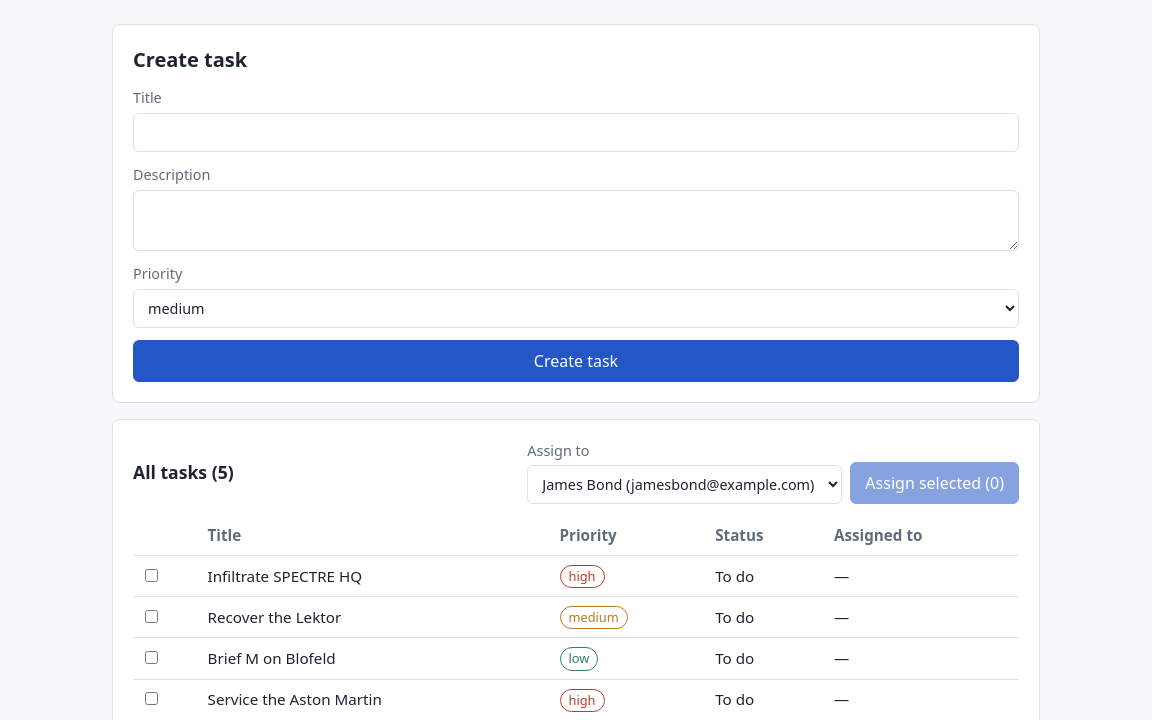
Scenario: AdminPage › assigns exactly the selected tasks to the chosen staff member
Click the checkbox named "Select Infiltrate SPECTRE HQ" at (152, 575), box [145,569,158,582]
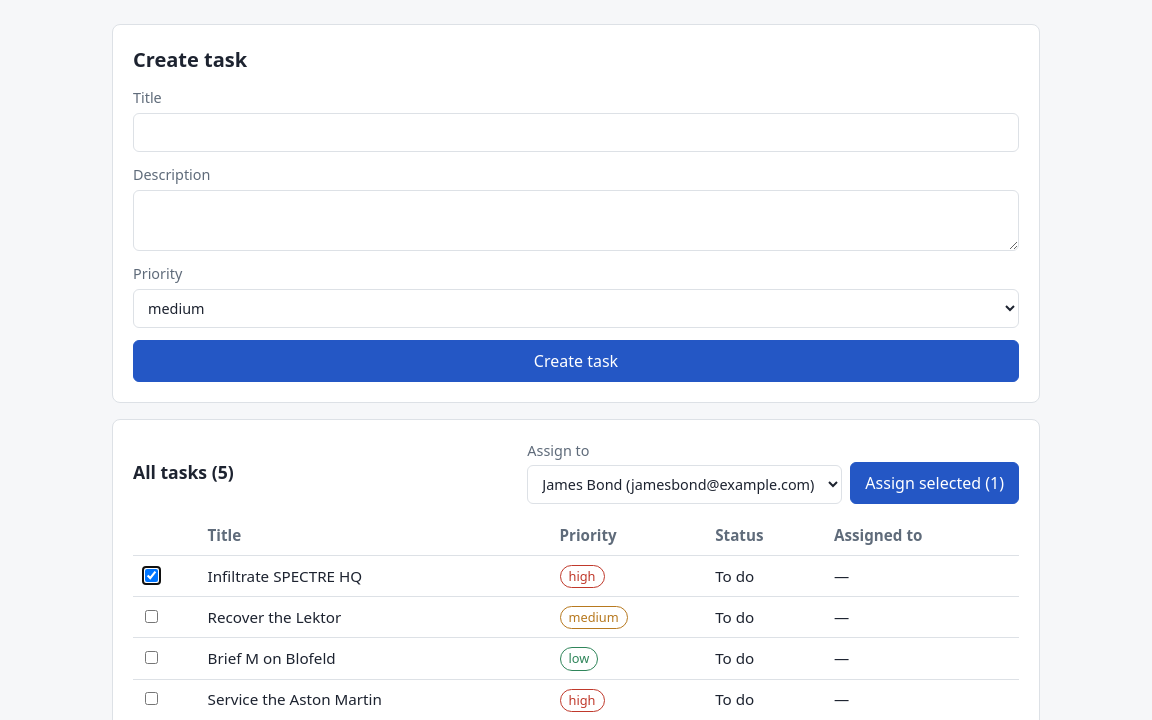
Click the checkbox named "Select Recover the Lektor" at (152, 616), box [145,610,158,623]
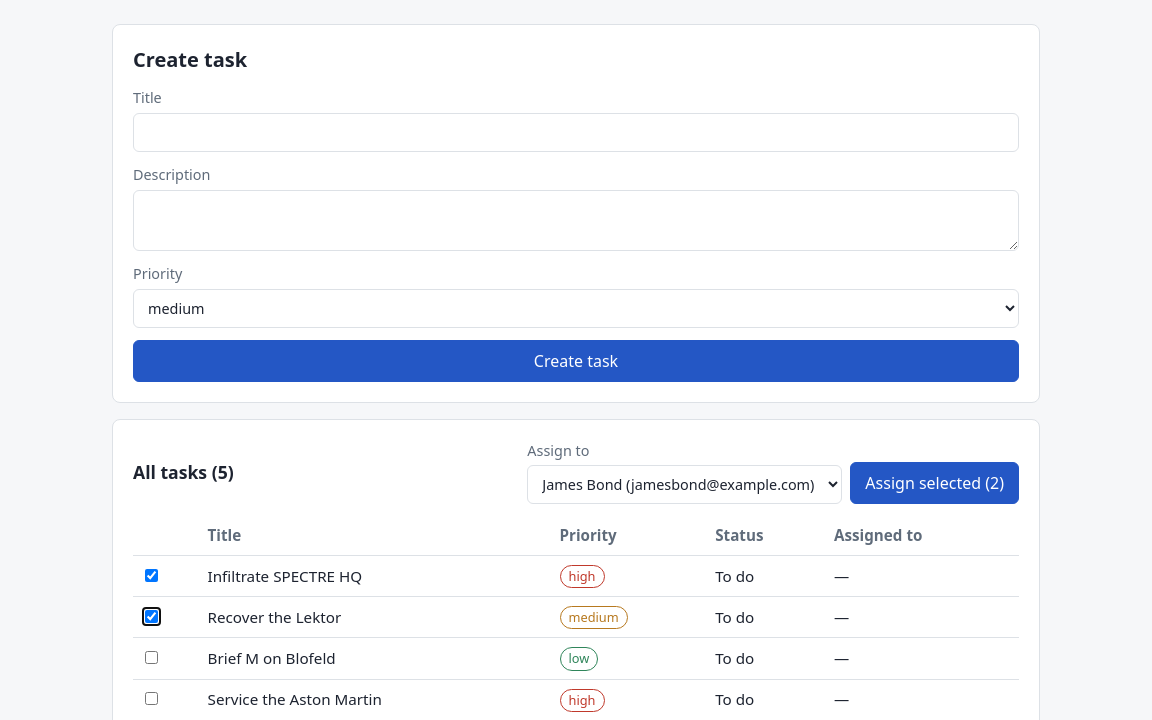
Click the checkbox named "Select Brief M on Blofeld" at (152, 658), box [145,651,158,664]
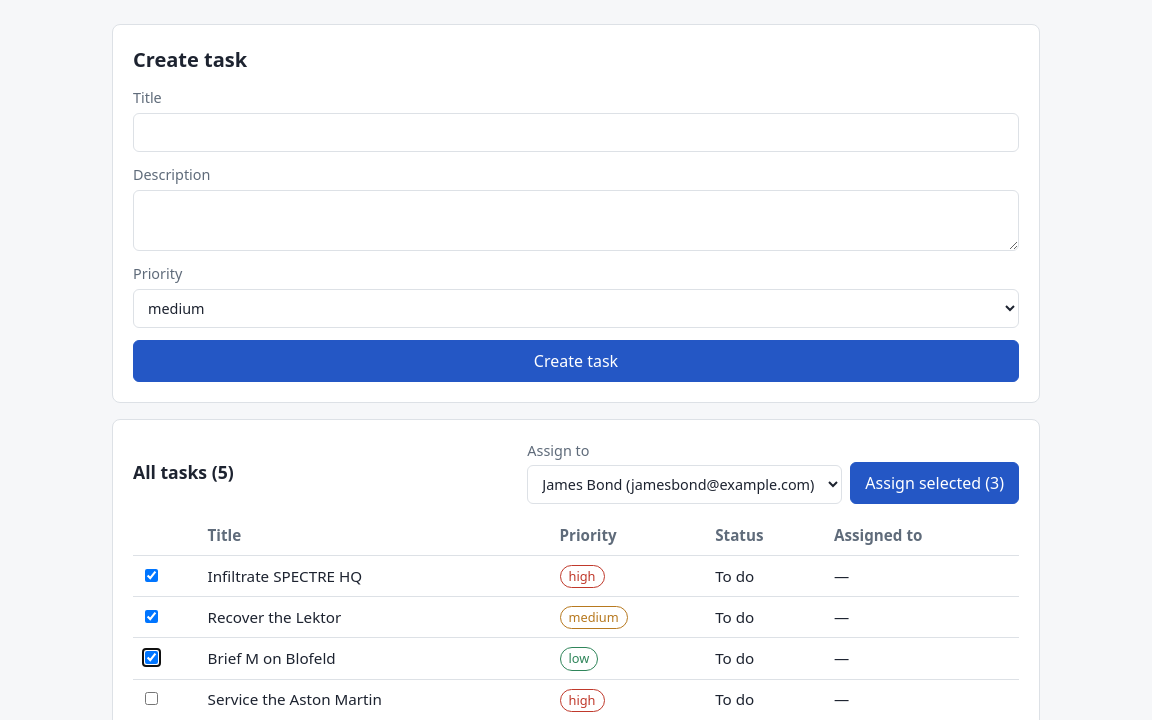
Click the button "Assign selected (3)" at (935, 483), box [850,462,1019,504]
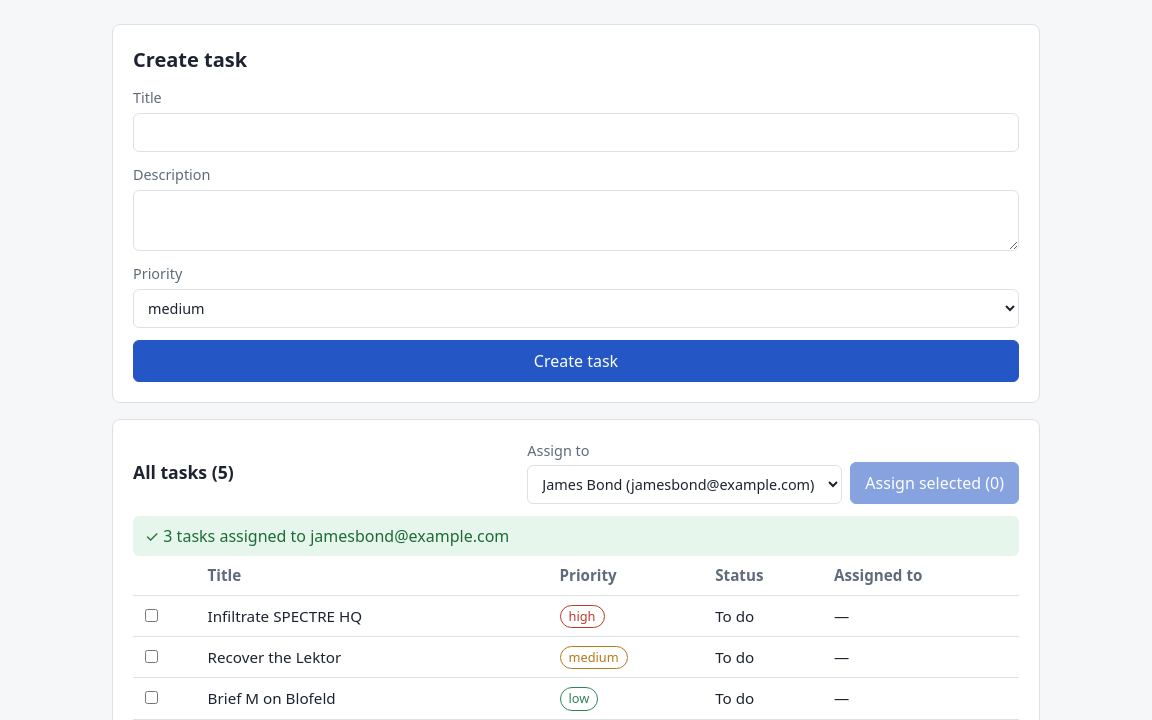
Now the text "3 tasks assigned to jamesbond@example.com" is shown, box [133,516,1019,556]
